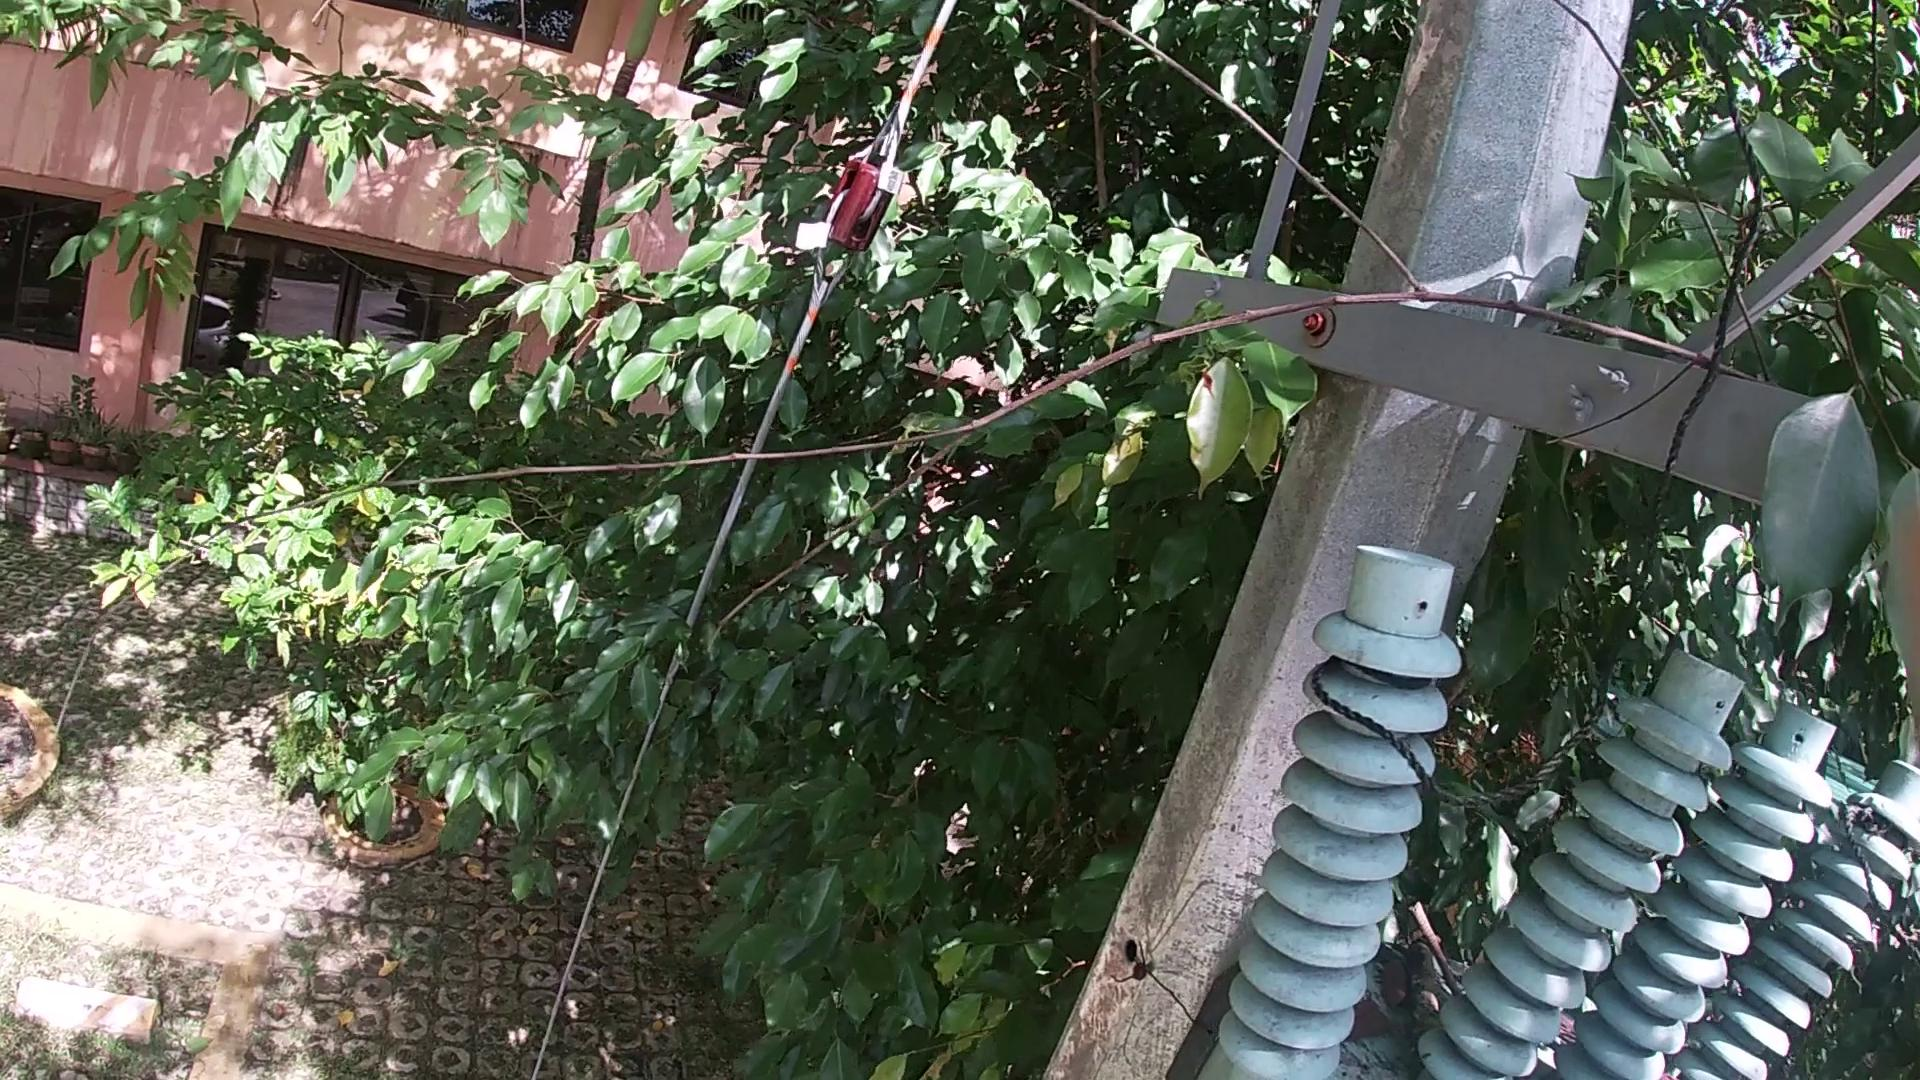leaf: (1349, 1000, 1394, 1038), (1381, 963, 1400, 1010)
tree branch: (42, 11, 1821, 752), (1400, 903, 1465, 988), (1403, 942, 1443, 1046)
